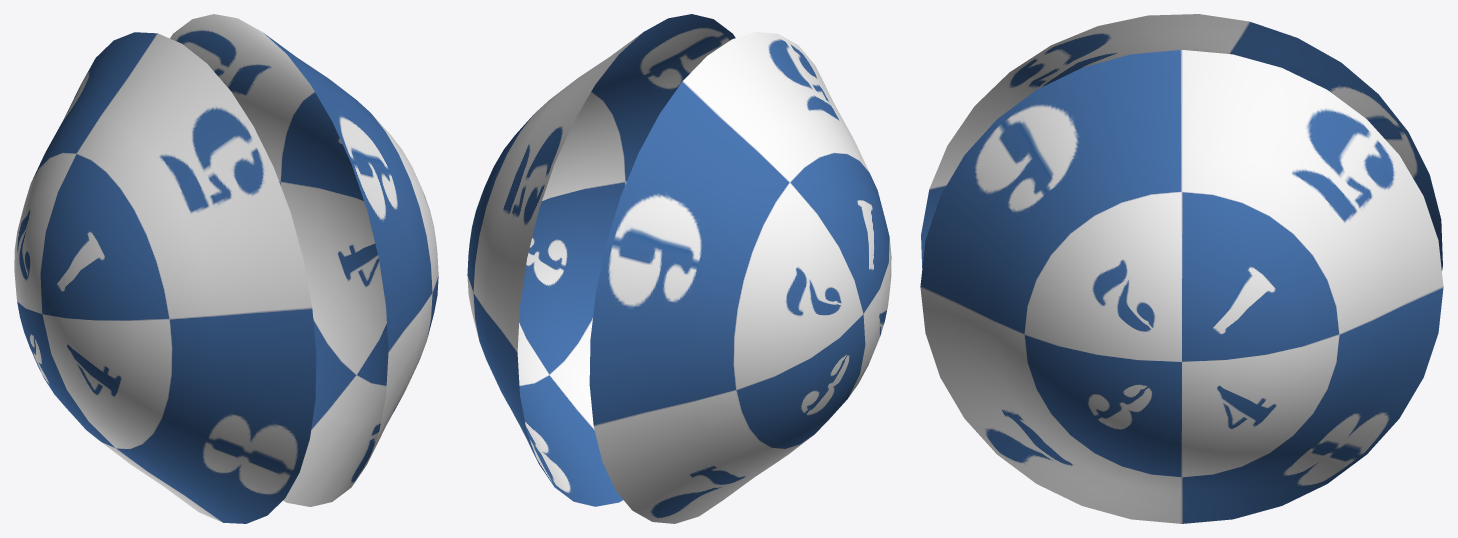
Rendered from Enmu_Sphere1.fbx.
3 renders of one model, left to right at view 1: azimuth 30°, elevation 25°; view 2: azimuth 150°, elevation 25°; view 3: azimuth 270°, elevation 25°, orthographic. The views are drawn at different scales.
Parts seen in each view (by area): view 1: SM_e_Plc_P1011_Sphere001; view 2: SM_e_Plc_P1011_Sphere001; view 3: SM_e_Plc_P1011_Sphere001.
Part boxes in pixels (left/top/right/bottom): SM_e_Plc_P1011_Sphere001: left=14, top=14, right=438, bottom=523; SM_e_Plc_P1011_Sphere001: left=467, top=14, right=891, bottom=523; SM_e_Plc_P1011_Sphere001: left=920, top=14, right=1443, bottom=523.
Bounding box in the file's own units: 100 × 119 × 119.
